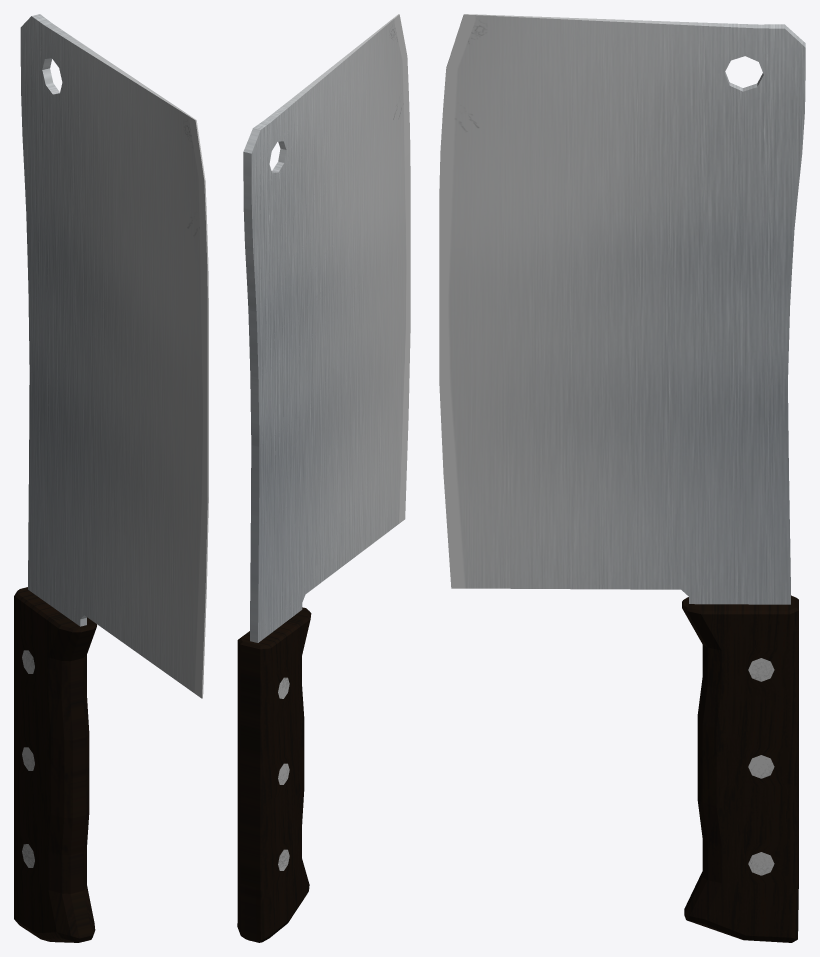
File: 무기_중식도.fbx
The picture shows the model from 3 angles, left to right: view 1: azimuth 30°, elevation 25°; view 2: azimuth 150°, elevation 25°; view 3: azimuth 270°, elevation 25°; orthographic projection. The views are drawn at different scales.
Visible parts, largest first — view 1: 중식도; view 2: 중식도; view 3: 중식도.
Part boxes in pixels (box(x1,y1,x2,y2)): 중식도: box(14, 14, 208, 942); 중식도: box(237, 14, 410, 942); 중식도: box(439, 14, 805, 942).
Size of the model in its own units: 1.28 by 10.73 by 29.92.
